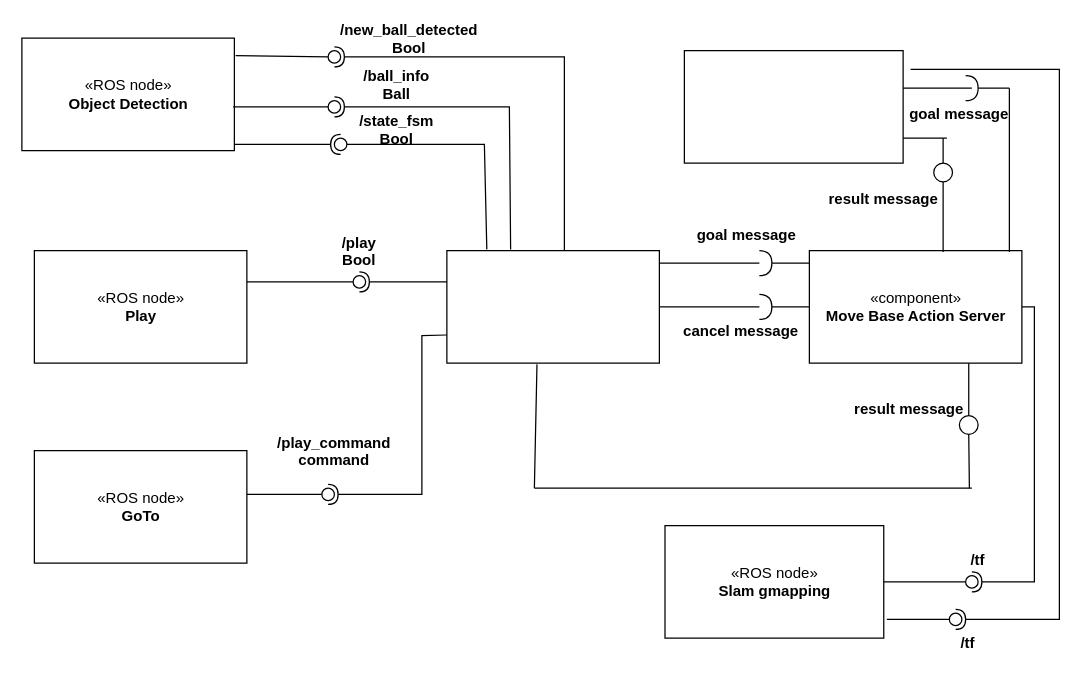
The diagram is 1091 pixels wide and 679 high, and some of its shapes have lost their labels. Each missing label, with the centre of its shape:
"«ROS node» Explore" belongs at pixel 793 106.
"«ROS node» State Machine" belongs at pixel 552 306.
